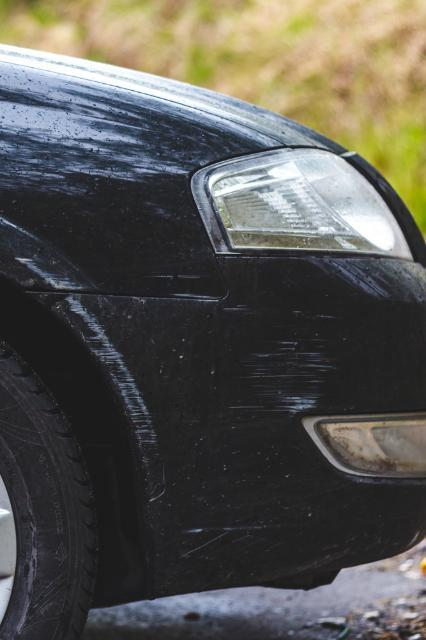scratch: (49, 294, 163, 468), (236, 308, 345, 423), (9, 255, 82, 290)
